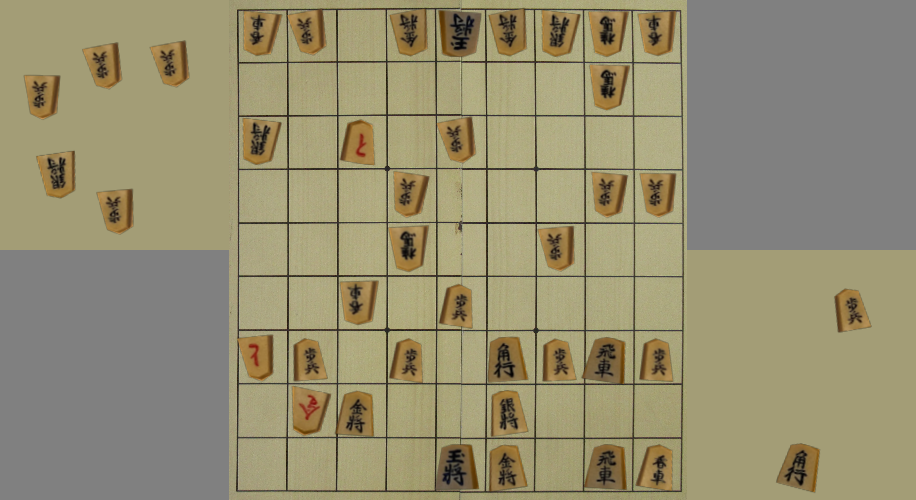A: (437, 445, 478, 490), (585, 445, 626, 489), (584, 338, 623, 383), (492, 391, 530, 436), (489, 338, 527, 382), (490, 446, 526, 490), (637, 446, 672, 490), (337, 392, 372, 436), (341, 121, 374, 165), (640, 340, 673, 381), (294, 339, 327, 380), (391, 340, 421, 383), (441, 285, 471, 328), (544, 340, 575, 381)
B: (440, 11, 479, 57), (243, 119, 280, 164), (294, 387, 329, 434), (390, 227, 427, 271), (590, 12, 627, 56), (591, 66, 628, 109), (289, 10, 325, 54), (543, 11, 579, 55), (490, 10, 525, 55), (244, 12, 280, 55), (391, 11, 426, 55), (439, 118, 474, 162), (341, 282, 377, 324), (639, 12, 674, 55), (395, 173, 428, 216), (540, 227, 573, 270), (594, 173, 626, 216), (240, 336, 272, 379), (642, 174, 674, 216)
C: (777, 444, 819, 492), (836, 289, 871, 332)
D: (83, 43, 121, 88), (37, 152, 74, 198), (151, 41, 188, 86), (98, 190, 133, 234), (26, 76, 59, 118)
